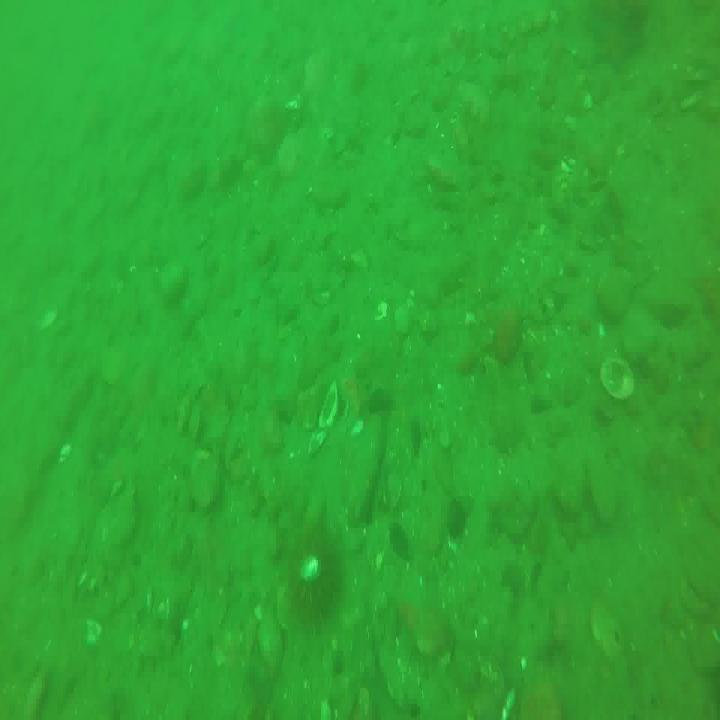echinus: (290, 521, 342, 627)
scallop: (301, 381, 340, 451), (595, 353, 635, 407), (590, 609, 622, 659), (33, 306, 60, 334), (60, 437, 70, 466)
